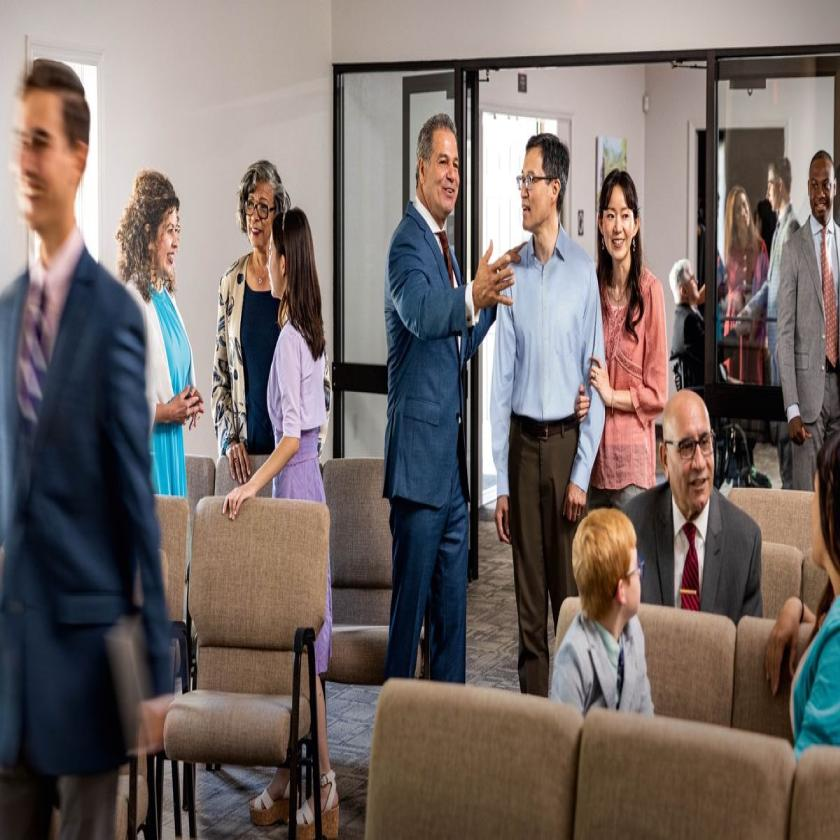Sin_casco: (8, 55, 96, 230), (567, 496, 648, 636), (660, 384, 722, 516), (124, 165, 185, 292), (266, 205, 319, 330), (414, 106, 464, 232), (517, 132, 571, 238), (594, 167, 643, 270), (244, 158, 284, 250), (805, 150, 839, 227), (763, 154, 793, 215), (670, 254, 701, 312), (726, 182, 752, 241)
